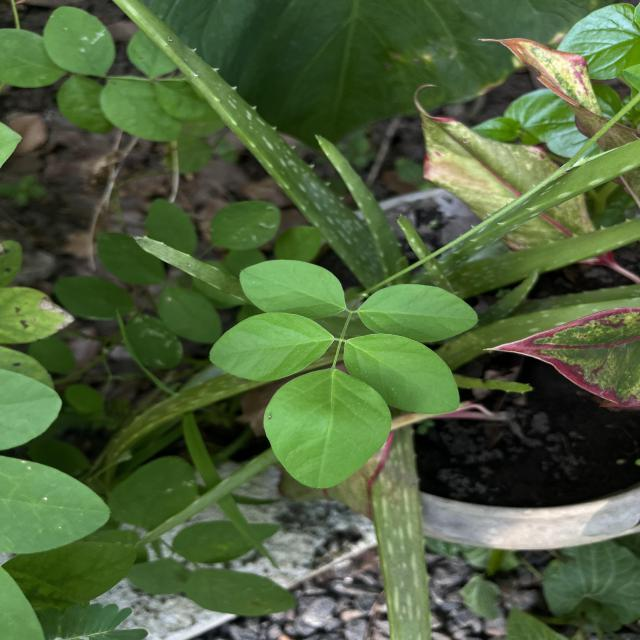Clitoria ternatea: (261, 368, 393, 490), (341, 332, 461, 416), (207, 310, 335, 382), (356, 282, 481, 344), (238, 258, 347, 320)
